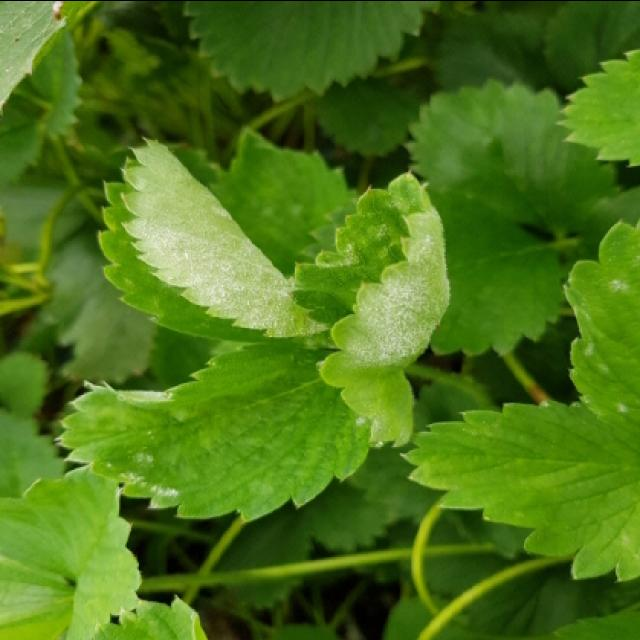Powdery Mildew Leaf: (54, 341, 381, 524), (98, 135, 332, 343), (288, 172, 450, 446), (563, 217, 638, 454)
